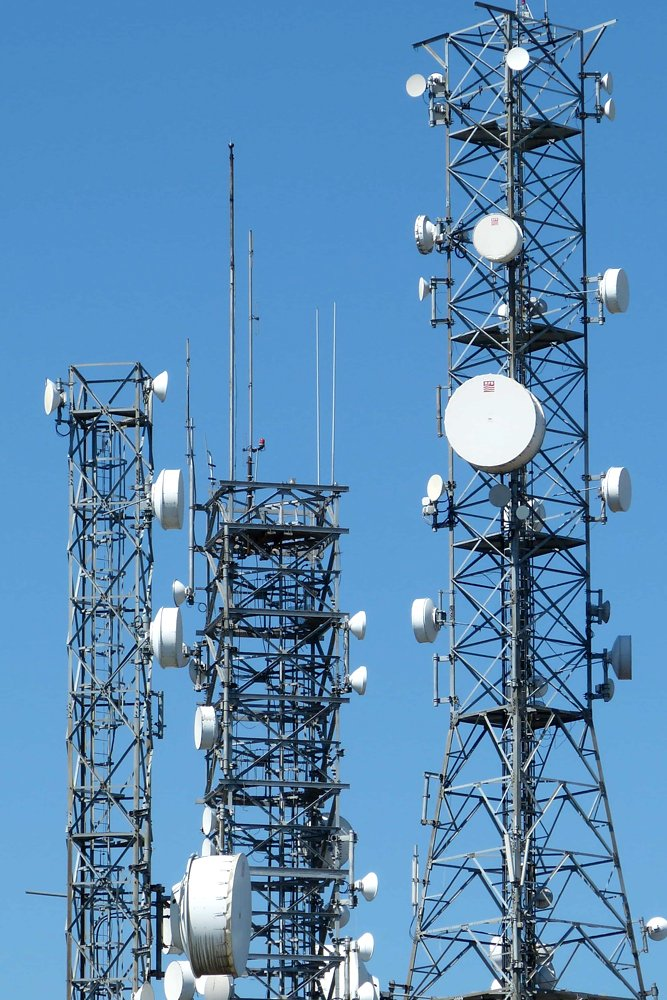ba: (431, 349, 543, 492), (168, 826, 255, 982), (470, 214, 526, 295), (386, 581, 446, 651), (141, 450, 194, 515), (149, 478, 193, 536), (590, 449, 619, 509), (499, 47, 538, 83)
